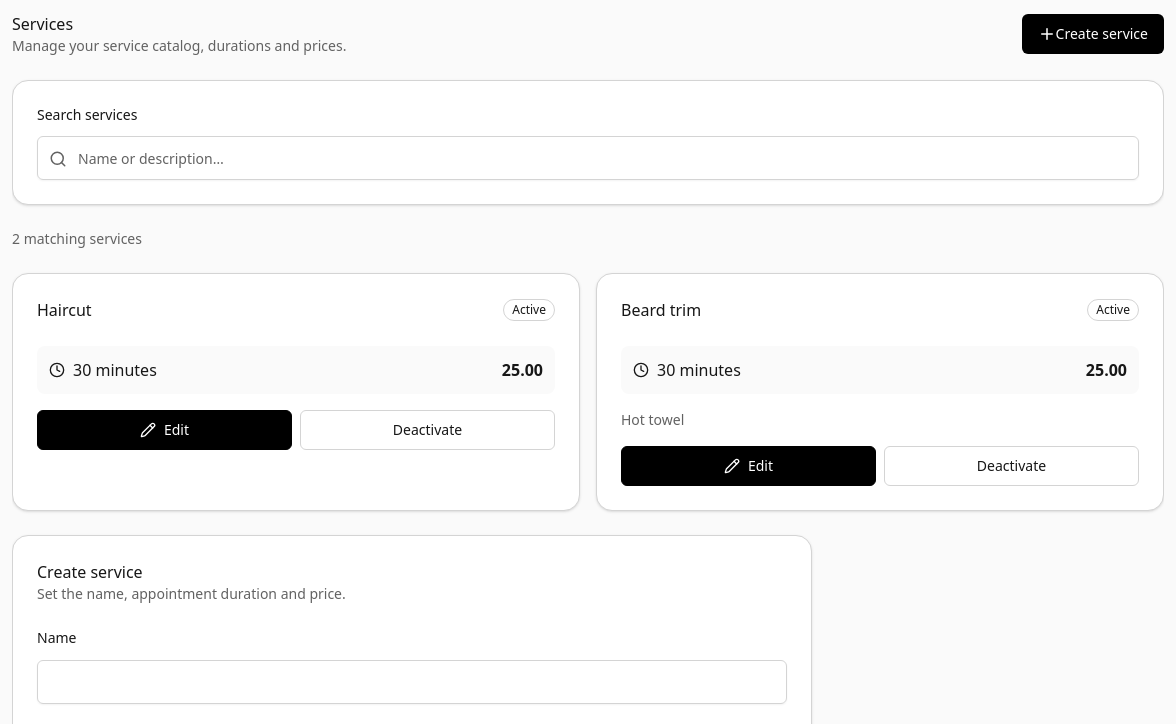
Scenario: service search matches descriptions and clear restores catalog
expect the heading "Haircut" is shown: met, box [37,298,92,322]
In the search field labelled "Search services": (588, 158) [37,136,1139,180], type "hot towel"
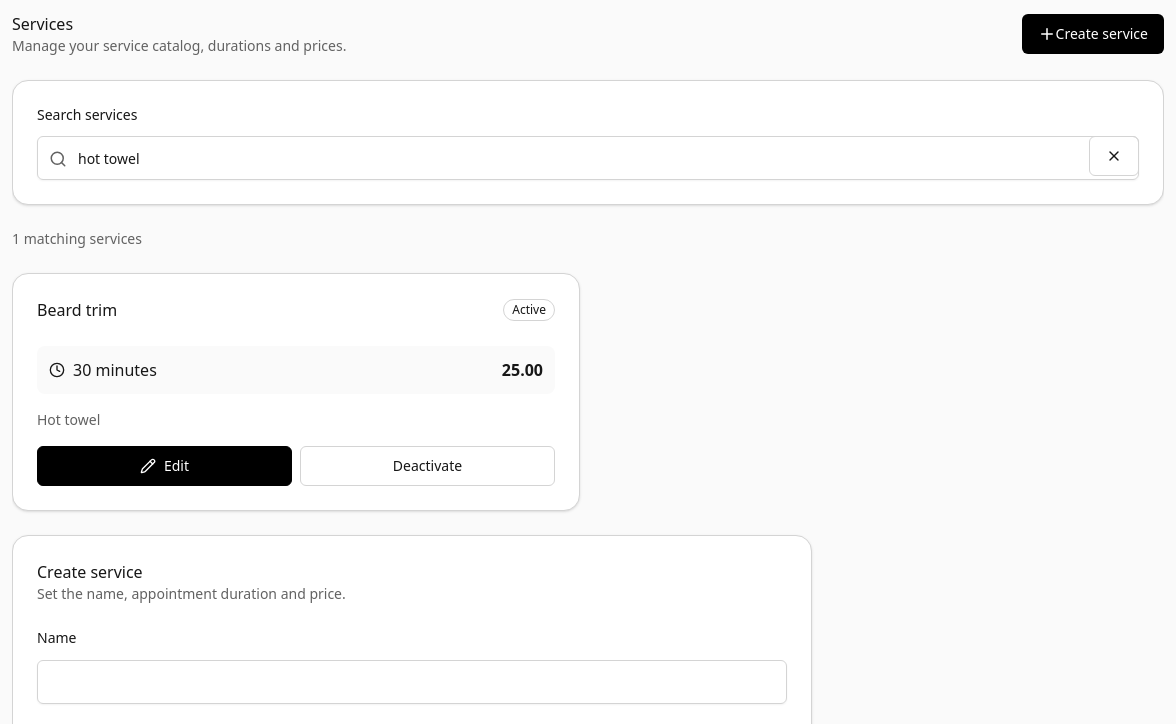
expect the heading "Beard trim" is shown: met, box [37,298,117,322]
expect the heading "Haircut" is gone: met
Click the button named "Clear search": (1114, 156) [1089,136,1139,176]
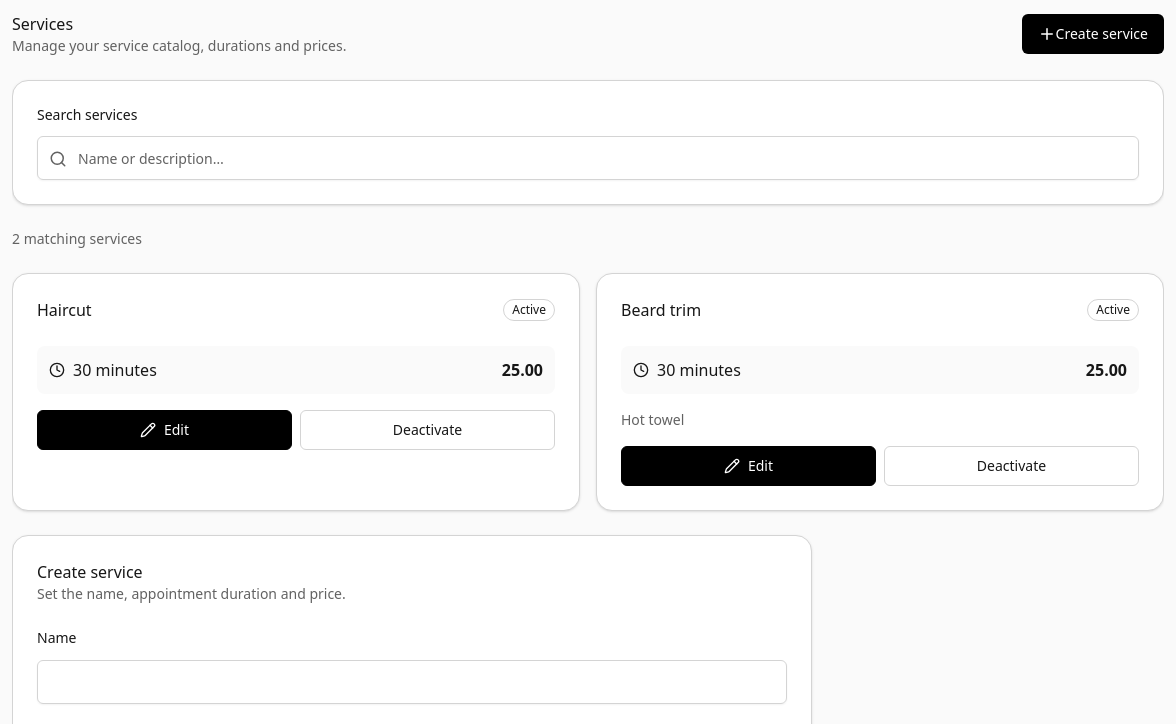
expect the heading "Haircut" is shown: met, box [37,298,92,322]
